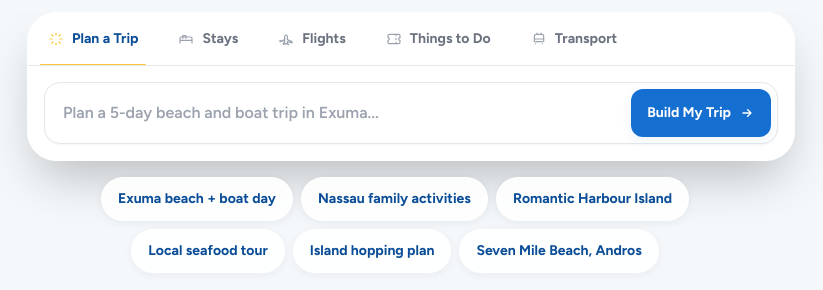
Test: MarketingHeroSearch › uses saved travel origin as the homepage flight search default
Click the tab "Flights" at (312, 39), box [258, 13, 366, 65]
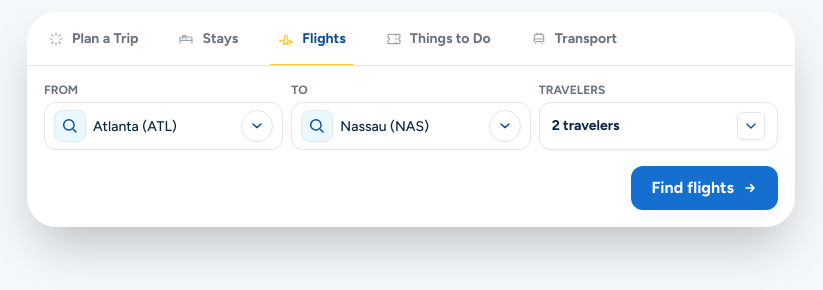
expect the dropdown labelled "From" holds "Atlanta (ATL)": met, box [44, 102, 283, 150]
expect the label named "m-flight-from" holds "Atlanta": met, box [44, 82, 283, 150]
